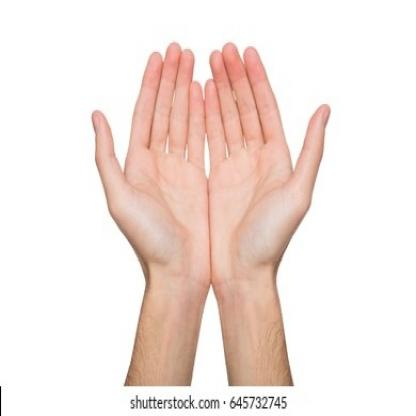palm: (89, 37, 208, 344), (208, 40, 335, 310)
